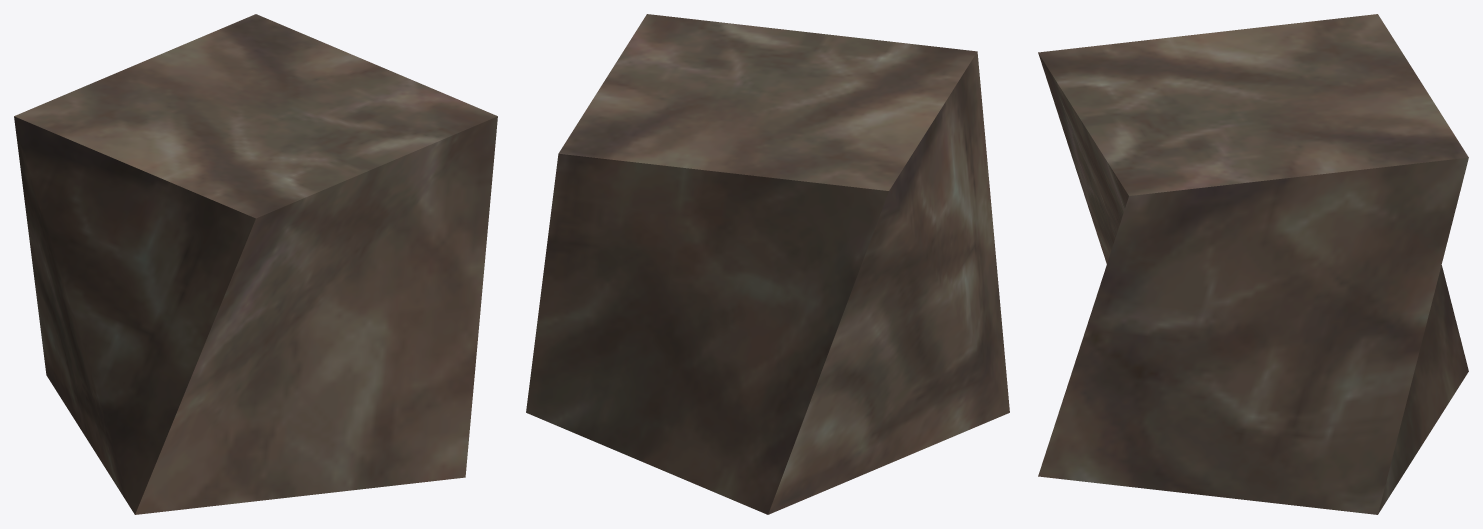
The model's file is shuzhuang.glb.
The picture shows the model from 3 angles, left to right: view 1: azimuth 30°, elevation 25°; view 2: azimuth 150°, elevation 25°; view 3: azimuth 270°, elevation 25°; orthographic projection. The views are drawn at different scales.
Visible parts, largest first — view 1: Cube; view 2: Cube; view 3: Cube.
Boxes of the visible parts, x1,y1,x2,y2 form: Cube: [14, 14, 497, 514]; Cube: [526, 14, 1009, 514]; Cube: [1038, 14, 1468, 514].
Bounding box in the file's own units: 3.67 × 3 × 3.67.
1 material, 1 textured.
